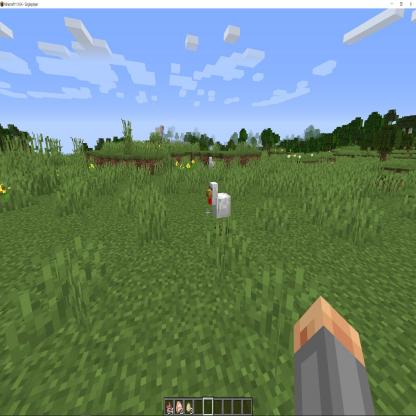minecraft-pigs: (206, 180, 233, 238), (206, 156, 218, 178)
